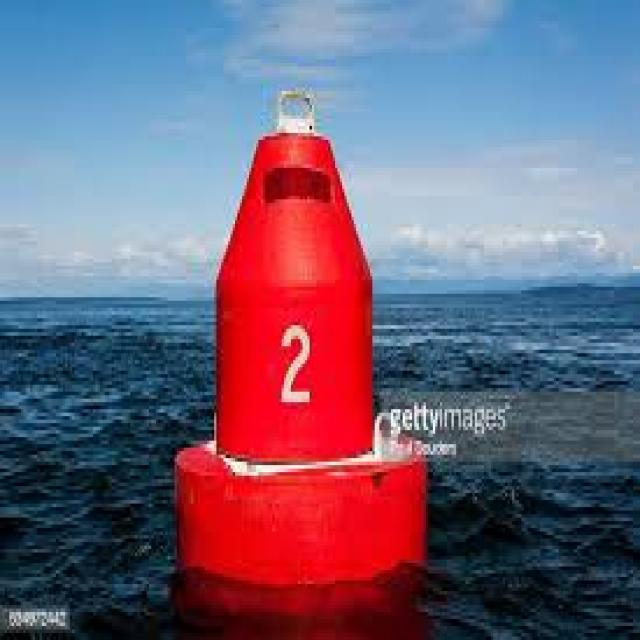marque: (163, 49, 441, 599)
